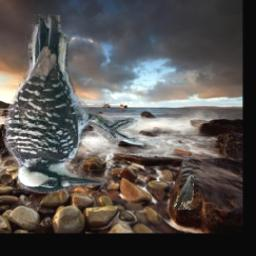Crow: (173, 175, 194, 210)
Woodpecker: (0, 14, 139, 194)
